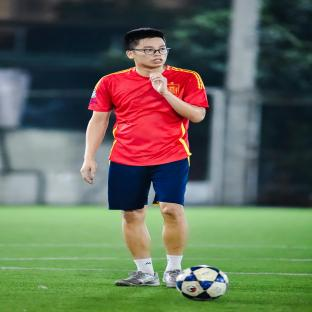Human: (81, 28, 208, 287)
